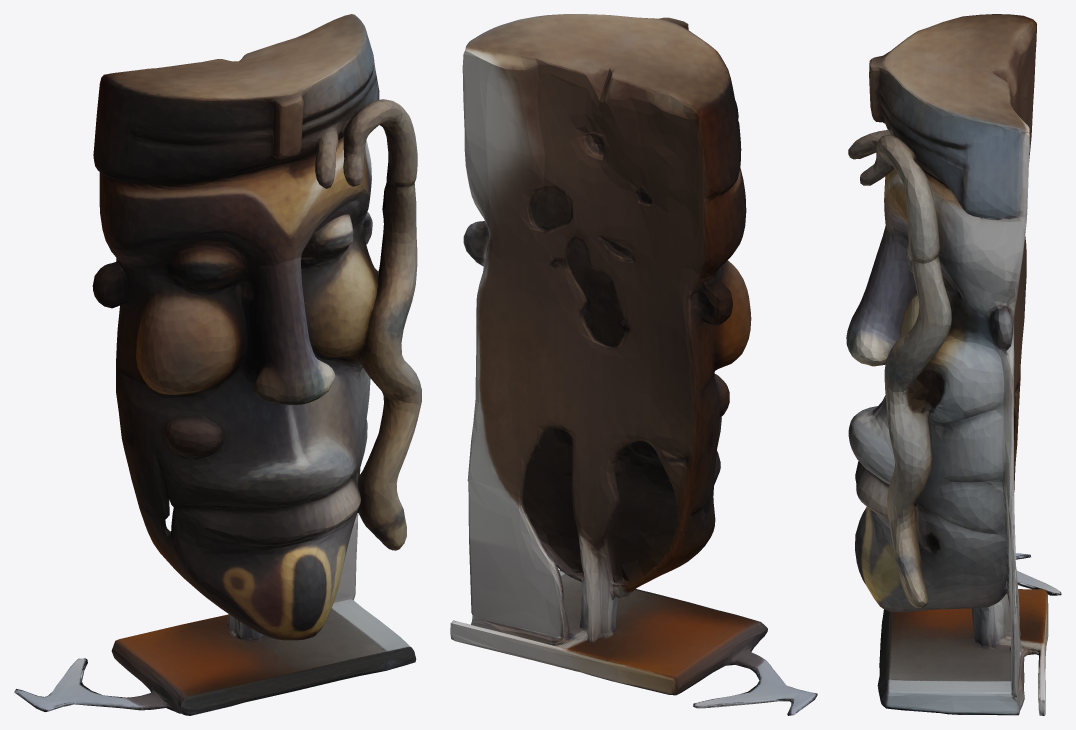
The model's file is maske -mcn drive.glb.
3 views of the same model, side by side, from view 1: azimuth 30°, elevation 25°; view 2: azimuth 150°, elevation 25°; view 3: azimuth 270°, elevation 25° (orthographic). The views are drawn at different scales.
Visible parts, largest first — view 1: world; view 2: world; view 3: world.
Part boxes in pixels (box(x1,y1,x2,y2)): world: box(14, 14, 421, 715); world: box(450, 14, 817, 715); world: box(846, 14, 1061, 715).
Bounding box in the file's own units: 0.6105 × 0.9985 × 0.3287.
Materials: 1 (1 with a texture image).
